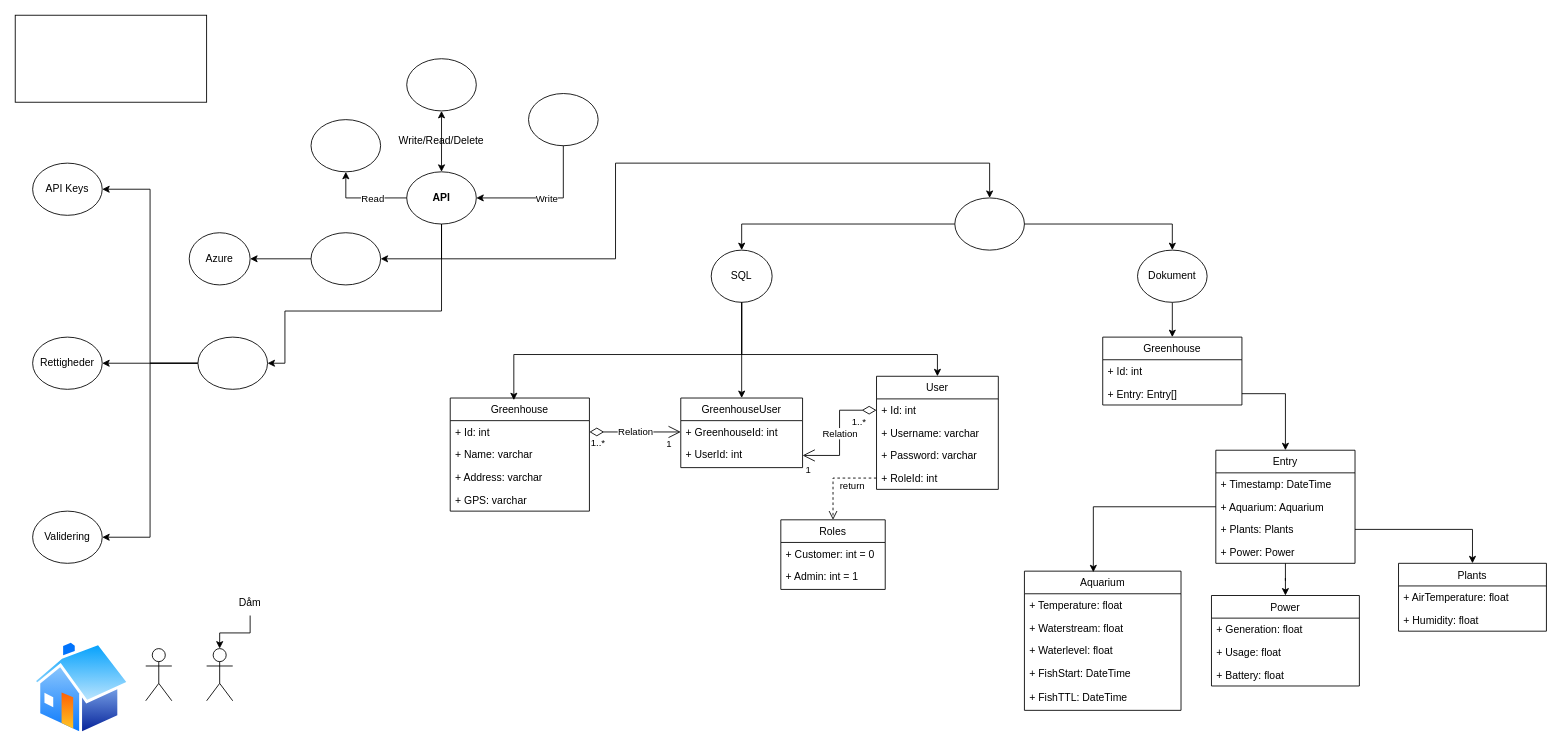
Some shapes in this 1562 by 751 pixel diagram are drawn without their labels. Each missing label, with the centre of its shape:
"Admin" belongs at point (441, 84).
"Database" belongs at point (989, 223).
"Drivhus" belongs at point (563, 119).
"Front-end" belongs at point (345, 145).
"Hosting" belongs at point (345, 258).
"Kånne" belongs at point (219, 674).
"Mej" belongs at point (158, 674).
"Sikkerhed" belongs at point (232, 362).
